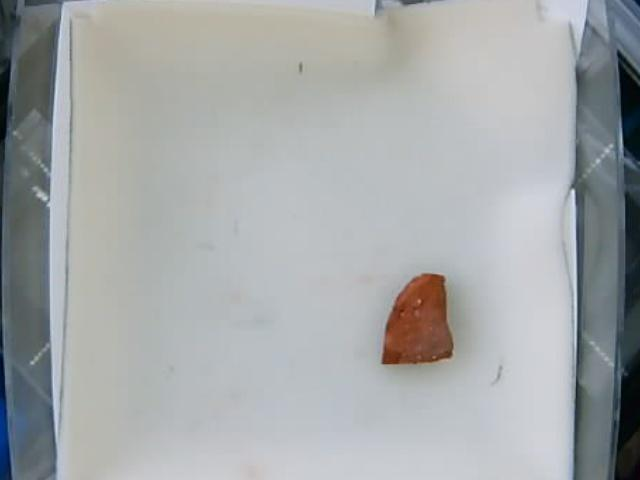Brisk: (384, 272, 453, 369)
